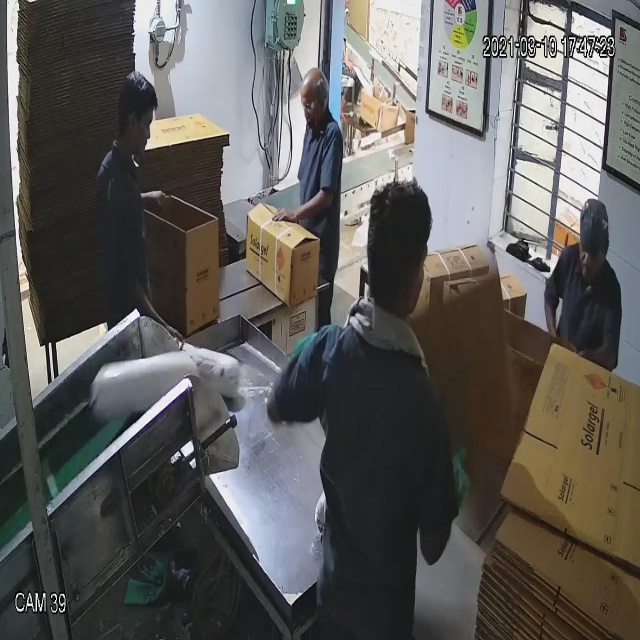Sin_guantes: (268, 172, 340, 236)
